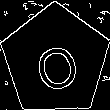O_N: (28, 29, 83, 92)
